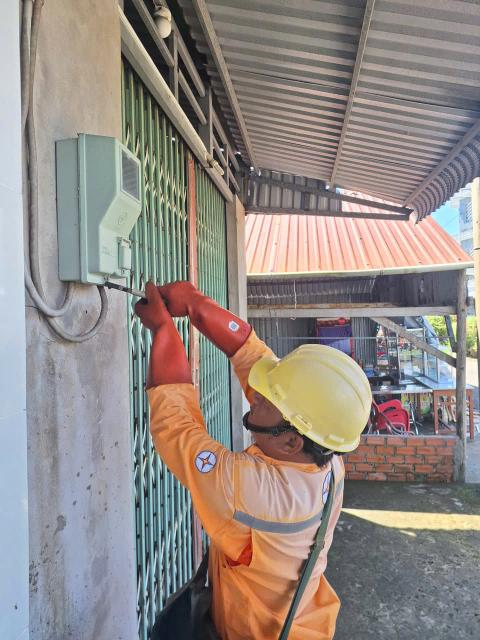gloves: (136, 261, 253, 358), (123, 282, 199, 402)
helmet: (233, 329, 388, 458)
